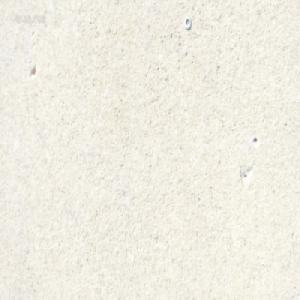Washer: (183, 15, 191, 30)
